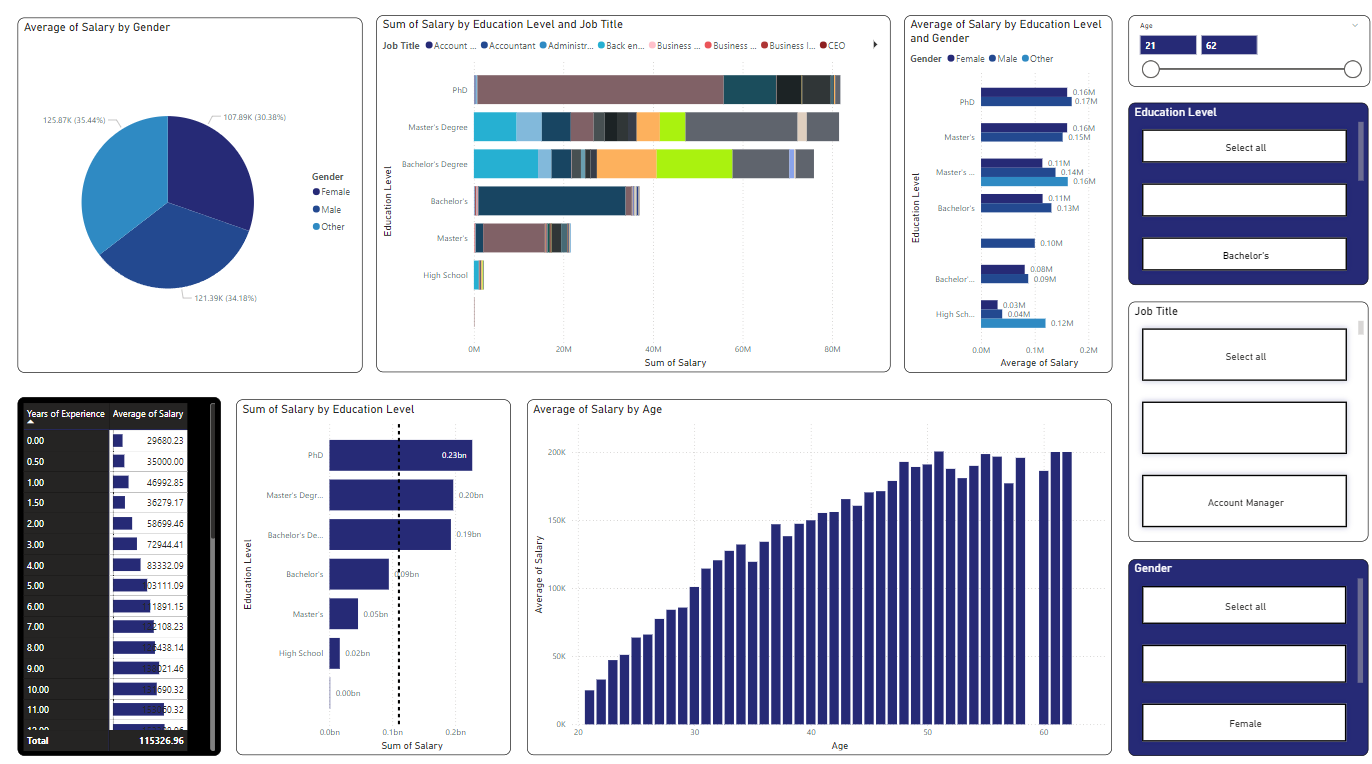

Layout of this report page (visuals, bound fields, positions):
{"tool":"powerbi","page":{"name":"Page 1","canvas":[2000,1115],"ordinal":0},"visuals":[{"type":"pieChart","fields":{"Y":["Avg(Salary_Data.Salary)"],"Series":["Salary_Data.Gender"]},"box":[28.3,28.3,500,515],"z":0},{"type":"slicer","fields":{"Values":["Salary_Data.Age"]},"box":[1635,88.3,350,103.3],"z":1000},{"type":"clusteredBarChart","fields":{"Category":["Salary_Data.Education Level"],"Y":["Avg(Salary_Data.Salary)"]},"box":[345.2,582,398,516],"z":2000},{"type":"columnChart","fields":{"Y":["Avg(Salary_Data.Salary)"],"Category":["Salary_Data.Age"]},"box":[766,582,848,516],"z":3000},{"type":"advancedSlicerVisual","fields":{"Values":["Salary_Data.Education Level"]},"box":[1636.7,237.8,348.3,265],"z":4000},{"type":"pivotTable","fields":{"Rows":["Salary_Data.Years of Experience"],"Values":["Avg(Salary_Data.Salary)"]},"box":[27.5,577.5,295,520],"z":5000},{"type":"clusteredBarChart","fields":{"Series":["Salary_Data.Gender"],"Category":["Salary_Data.Education Level"],"Y":["Avg(Salary_Data.Salary)"]},"box":[1313.3,25,301.7,518.3],"z":6000},{"type":"barChart","fields":{"Category":["Salary_Data.Education Level"],"Series":["Salary_Data.Job Title"],"Y":["Avg(Salary_Data.Salary)"]},"box":[547.5,25,745,517.5],"z":7000},{"type":"advancedSlicerVisual","fields":{"Values":["Salary_Data.Job Title"]},"box":[1638.3,548.9,348.3,245],"z":8000},{"type":"advancedSlicerVisual","fields":{"Values":["Salary_Data.Gender"]},"box":[1638.3,840,346.7,258.3],"z":9000},{"type":"textbox","box":[1634.6,25.1,350.7,47],"z":10000}]}

Visuals, with their boxes in screenshot pixels (x1, y1, x2, y2), scaled from the page's 2000x1115 canvas onto the 1372x764 screenshot:
pieChart - Avg(Salary_Data.Salary) x Salary_Data.Gender: (x1=19, y1=19, x2=362, y2=372)
slicer - Salary_Data.Age: (x1=1122, y1=61, x2=1362, y2=131)
clusteredBarChart - Salary_Data.Education Level x Avg(Salary_Data.Salary): (x1=237, y1=399, x2=510, y2=752)
columnChart - Avg(Salary_Data.Salary) x Salary_Data.Age: (x1=525, y1=399, x2=1107, y2=752)
advancedSlicerVisual - Salary_Data.Education Level: (x1=1123, y1=163, x2=1362, y2=345)
pivotTable - Salary_Data.Years of Experience x Avg(Salary_Data.Salary): (x1=19, y1=396, x2=221, y2=752)
clusteredBarChart - Salary_Data.Gender x Salary_Data.Education Level: (x1=901, y1=17, x2=1108, y2=372)
barChart - Salary_Data.Education Level x Salary_Data.Job Title: (x1=376, y1=17, x2=887, y2=372)
advancedSlicerVisual - Salary_Data.Job Title: (x1=1124, y1=376, x2=1363, y2=544)
advancedSlicerVisual - Salary_Data.Gender: (x1=1124, y1=576, x2=1362, y2=753)
textbox: (x1=1121, y1=17, x2=1362, y2=49)
